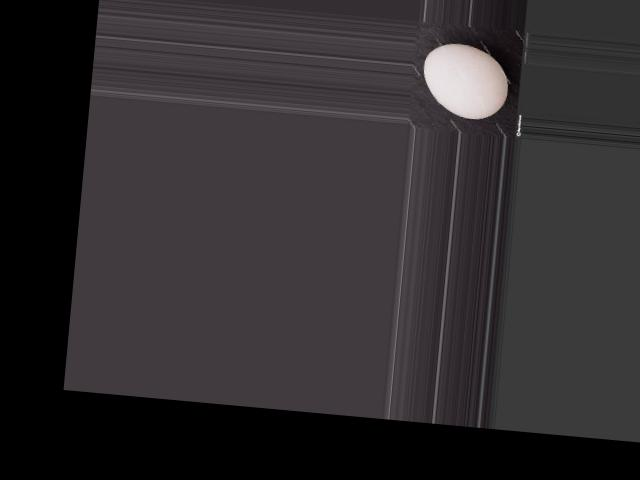egg: (420, 40, 511, 121)
